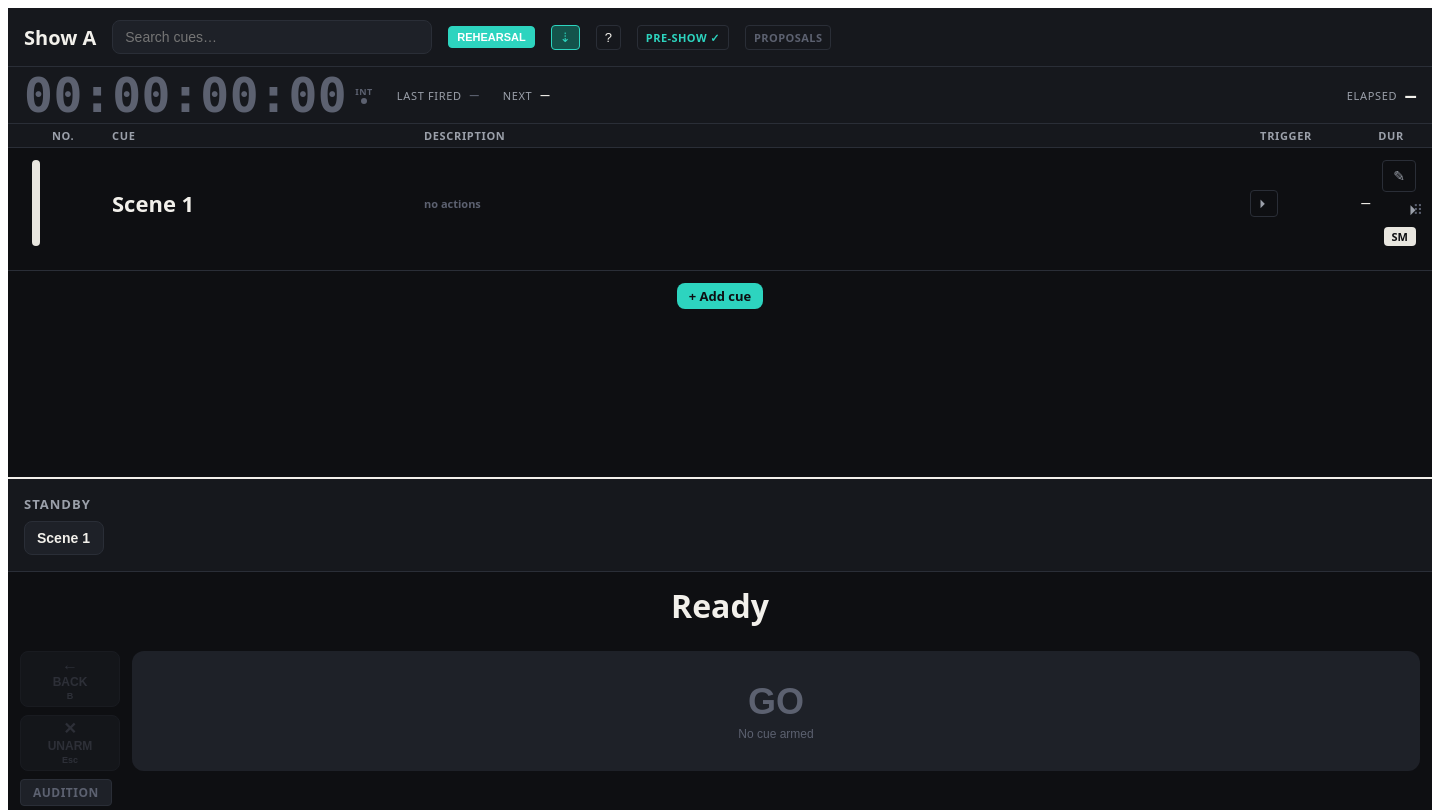
Test case: SMMasterView › inline editing shortcuts (N/L/D/O) › L key on selected row opens label inline edit
The width and height of the screenshot is (1440, 810).
Click the row at {"x": 720, "y": 210}, box [8,148,1432,271]
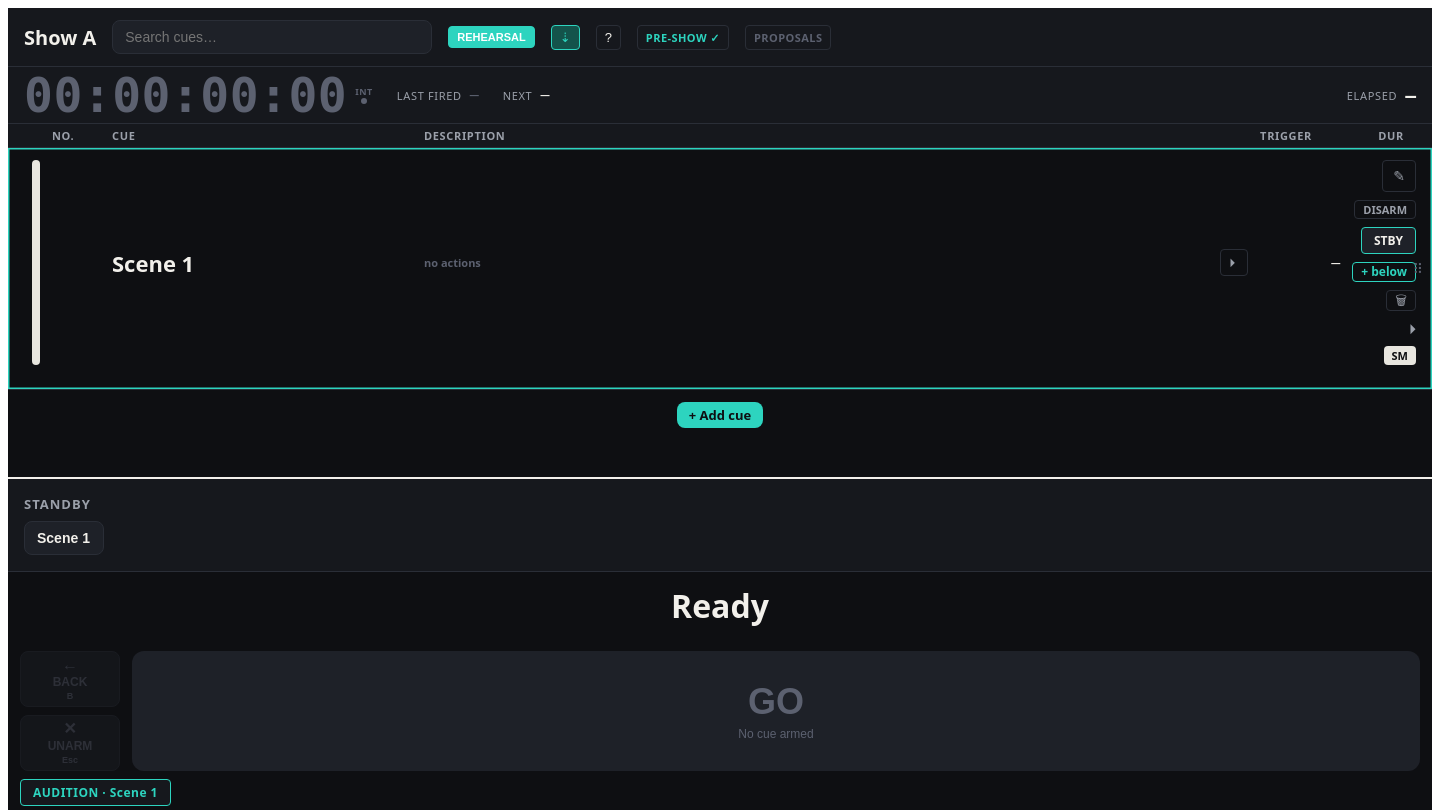
Press KeyL
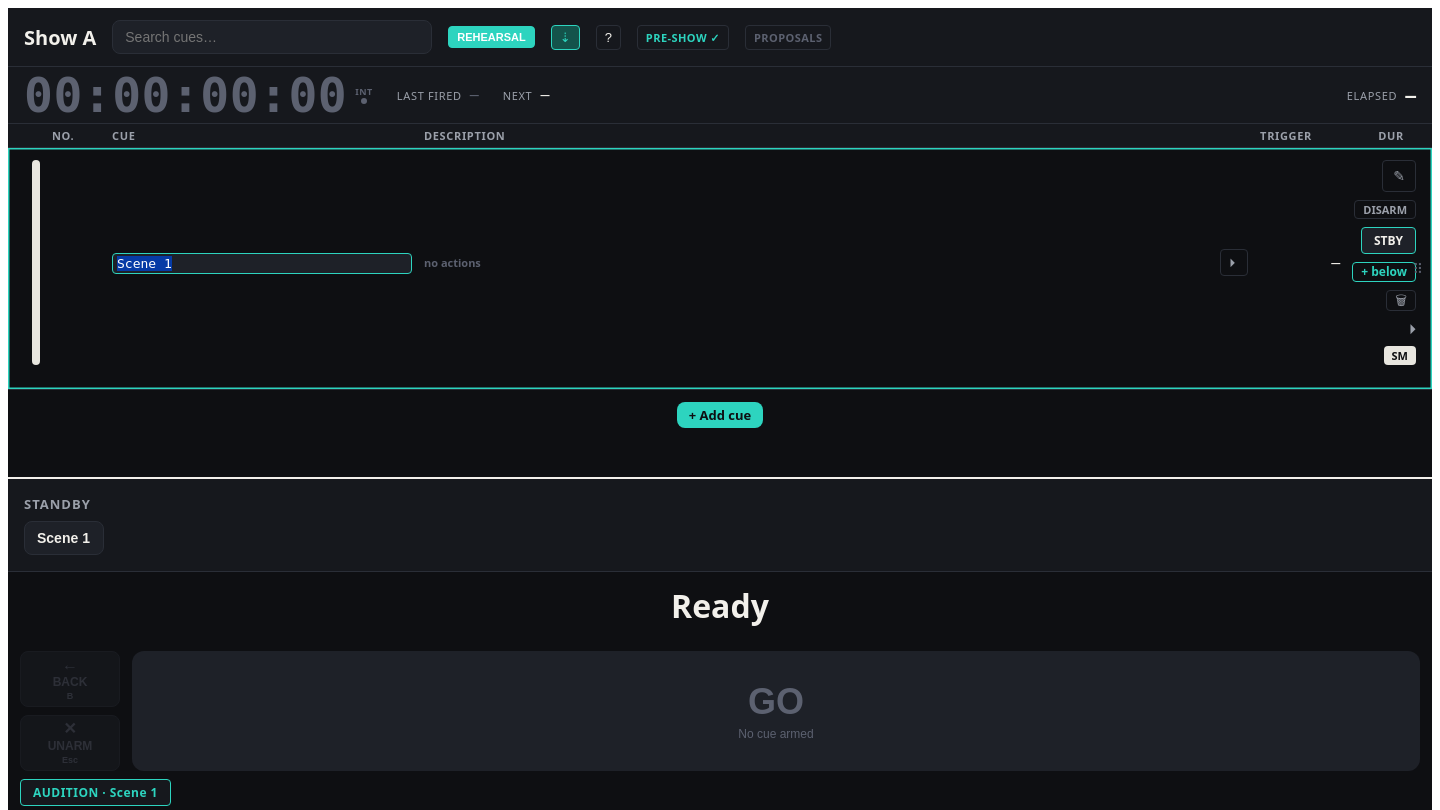
Now the field with test id "inline-edit-input" holds "Scene 1", box [112,253,412,274]
